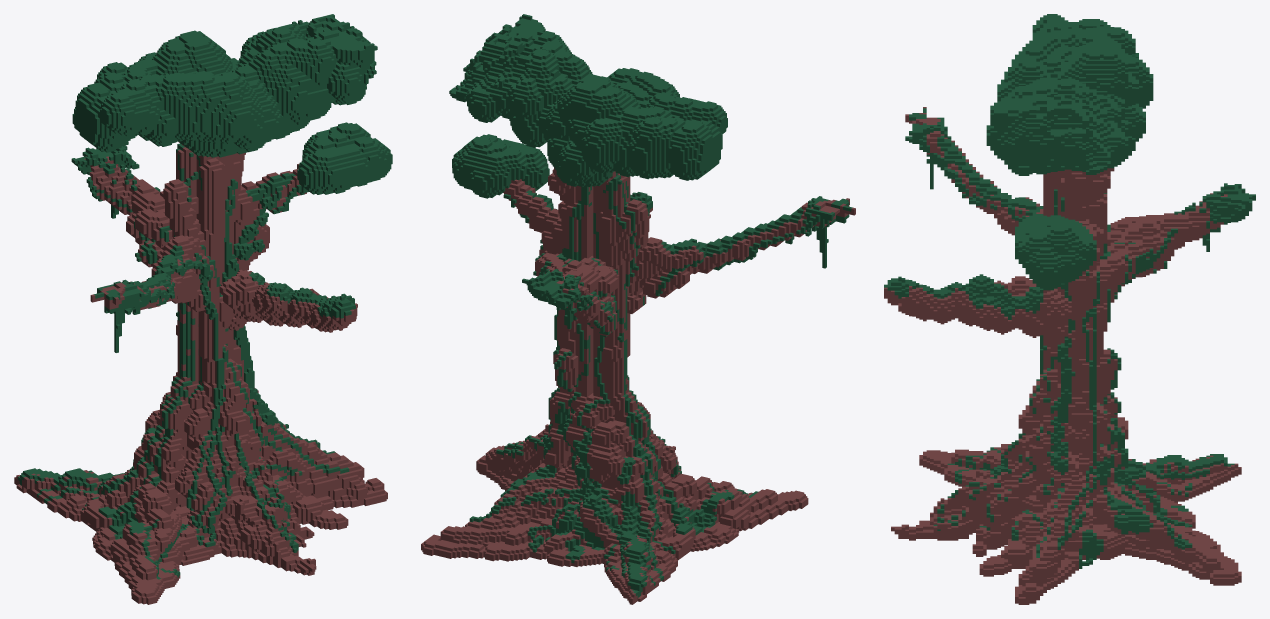
Rendered from yggdrasil.obj.
3 renders of one model, left to right at view 1: azimuth 30°, elevation 25°; view 2: azimuth 150°, elevation 25°; view 3: azimuth 270°, elevation 25°, orthographic. The views are drawn at different scales.
Size of the model in its own units: 11.9 by 15 by 10.5.
Materials: 1 (1 with a texture image).
